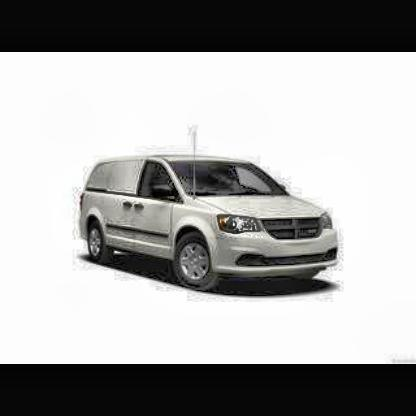Ram C-V Cargo Van Minivan 2012: (79, 131, 344, 297)
